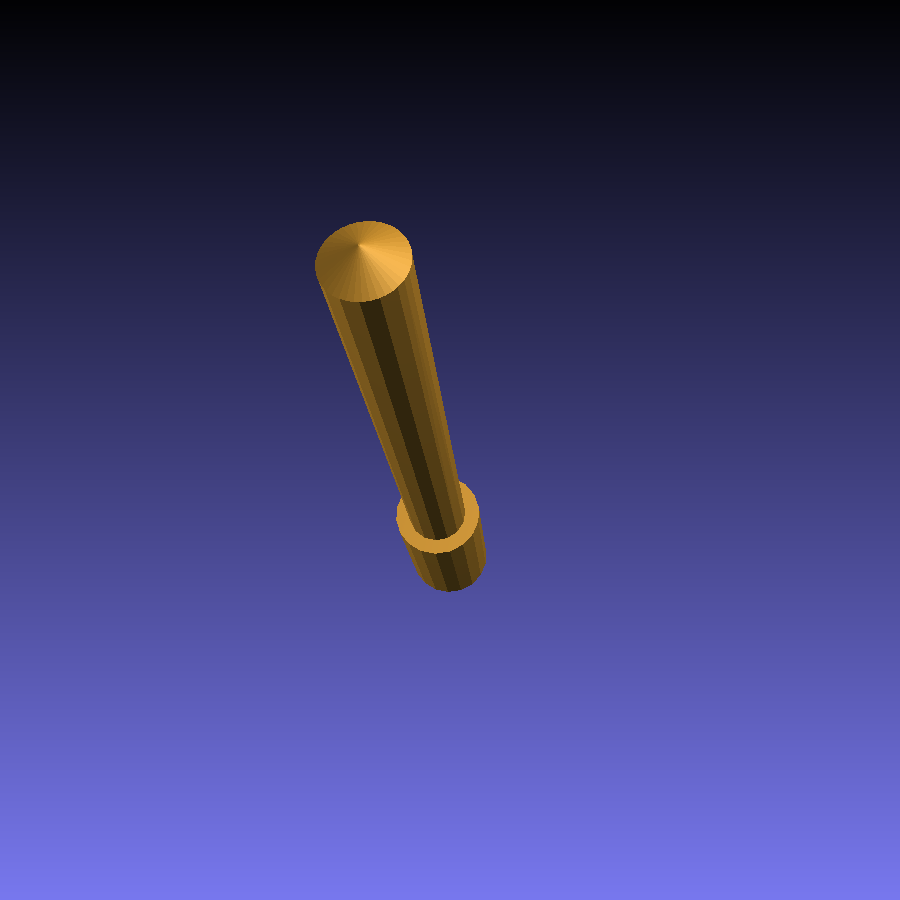cargo_g: (314, 222, 487, 590)
